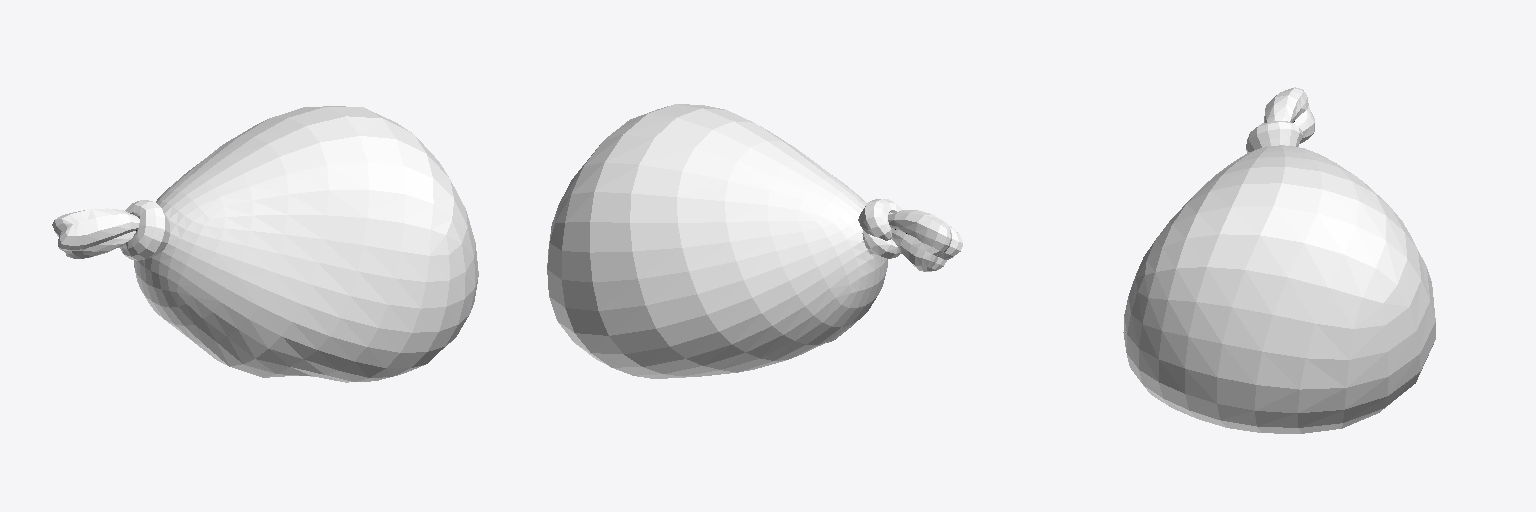
3 renders of one model, left to right at view 1: azimuth 30°, elevation 25°; view 2: azimuth 150°, elevation 25°; view 3: azimuth 270°, elevation 25°, orthographic.
Visible parts, largest first — view 1: Sack; view 2: Sack; view 3: Sack.
Boxes of the visible parts, <box> form: Sack: <box>52,106,478,382</box>; Sack: <box>547,104,962,378</box>; Sack: <box>1123,87,1435,433</box>.
Size of the model in its own units: 0.3923 by 0.2245 by 0.2723.
Materials: 1 (1 with a texture image).